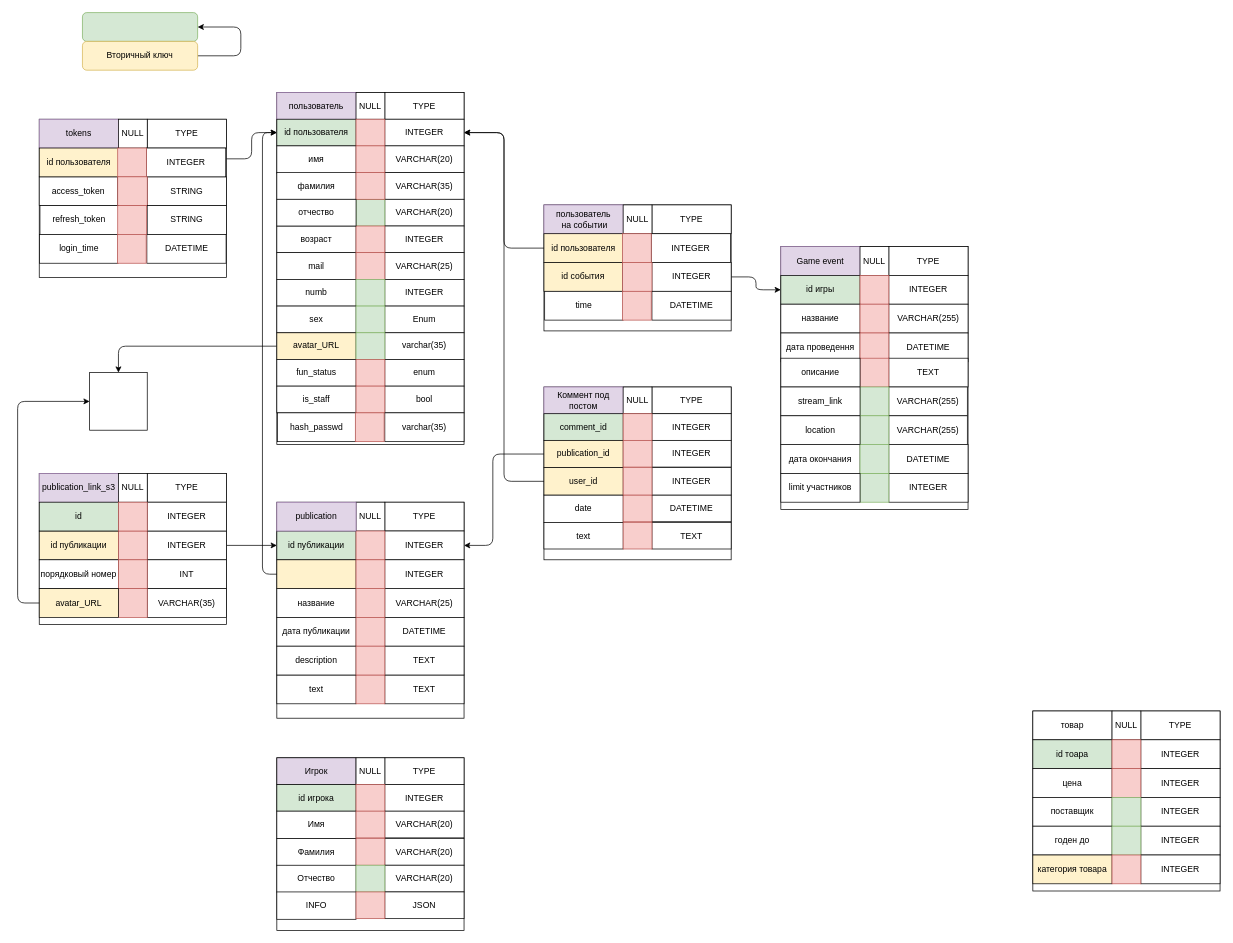
This 1233x943 diagram has some shape labels left out. The centre of each missing label's shape, as x and y in pixels:
"id_user" belongs at [316,574].
"s3" belongs at [118,401].
"Первичный ключ" belongs at [140,26].
